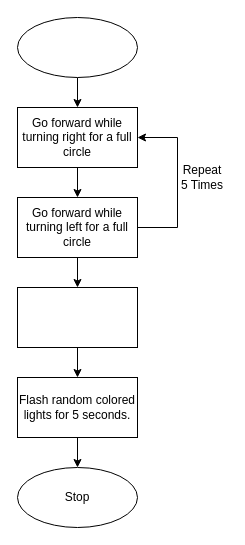
This 245x545 diagram has some shape labels left out. The shapes that lost their labels are listed below. From the top down, each one's box as (x1, y1, x2, y2) in pixels, then its label:
(16, 16, 138, 78): Start
(16, 286, 138, 348): Say "I am the winner."
